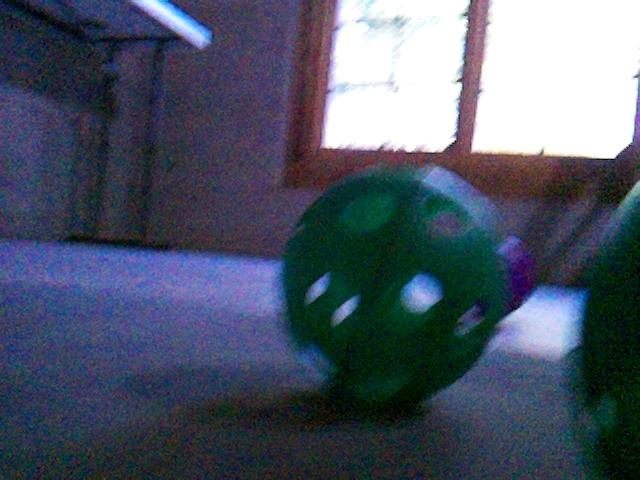Green: (277, 163, 507, 411), (576, 181, 640, 480)
Purple: (500, 234, 539, 318)
